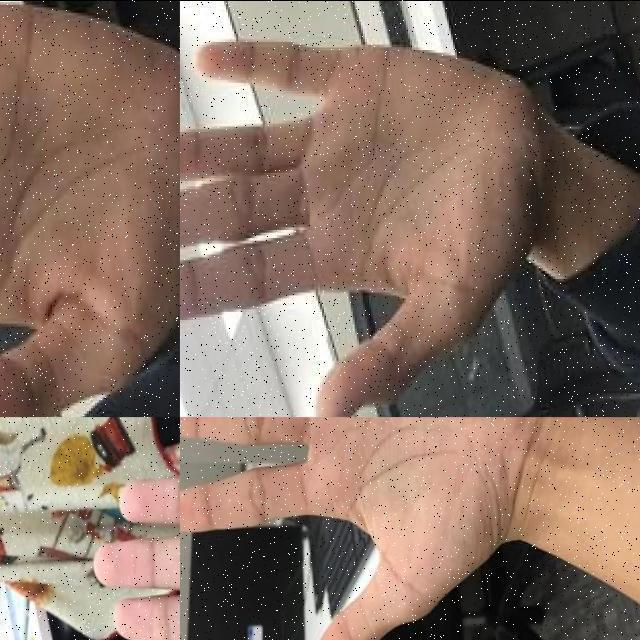hand: (180, 31, 543, 417), (180, 416, 562, 640), (0, 0, 180, 416), (90, 416, 180, 640)
